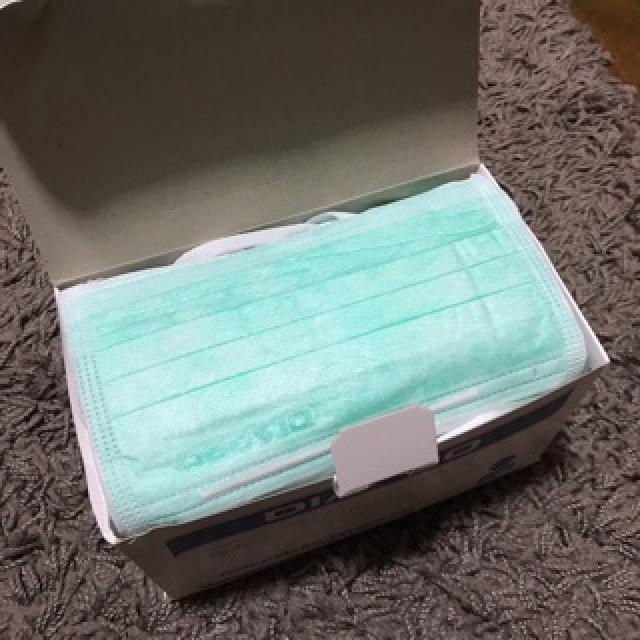face mask: (40, 158, 604, 534)
